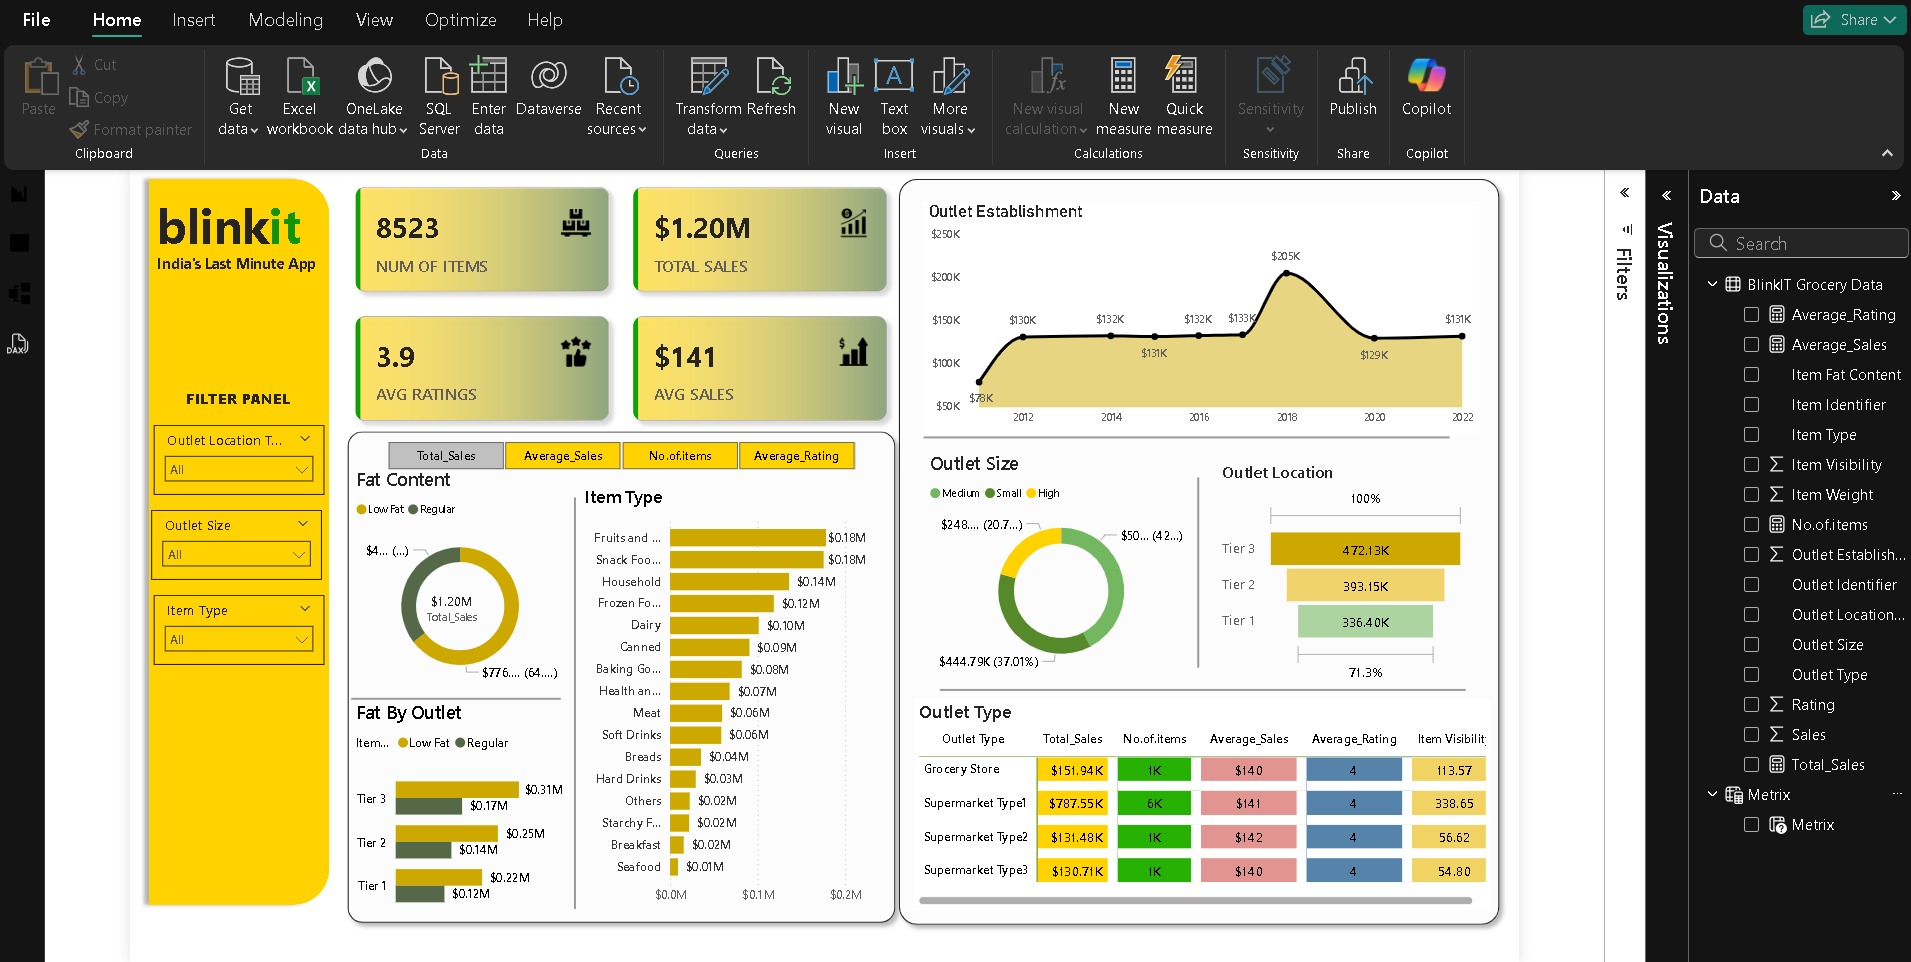

The page's visual inventory and layout, read from the dashboard file:
{"tool":"powerbi","page":{"name":"Page 1","canvas":[1400,800],"ordinal":0},"visuals":[{"type":"shape","box":[10,0,200,750],"z":0},{"type":"textbox","box":[22.4,17.1,175.3,80.6],"z":1000},{"type":"textbox","box":[22.4,79.4,181.8,35.9],"z":2000},{"type":"cardVisual","fields":{"Data":["BlinkIT Grocery Data.No.of.items","BlinkIT Grocery Data.Total_Sales","BlinkIT Grocery Data.Average_Rating","BlinkIT Grocery Data.Average_Sales"]},"box":[210,0,570,270],"z":3000},{"type":"shape","box":[210,255,570,513.3],"z":4000},{"type":"slicer","fields":{"Values":["Metrix.Metrix"]},"box":[235,266.7,520,41.7],"z":5000},{"type":"donutChart","title":"Fat Content","fields":{"Y":["BlinkIT Grocery Data.Total_Sales"],"Category":["BlinkIT Grocery Data.Item Fat Content"]},"box":[223.3,298.3,220,230],"z":6000},{"type":"cardVisual","fields":{"Data":["BlinkIT Grocery Data.Total_Sales"]},"box":[278.3,408.3,93.3,65],"z":7000},{"type":"clusteredBarChart","box":[790,18,570,270],"z":8000},{"type":"clusteredBarChart","title":"Fat By Outlet","fields":{"Y":["BlinkIT Grocery Data.Total_Sales"],"Category":["BlinkIT Grocery Data.Outlet Location Type"],"Series":["BlinkIT Grocery Data.Item Fat Content"]},"box":[223.3,533.3,220,230],"z":9000},{"type":"shape","box":[222.6,527.8,211.1,10.2],"z":10000},{"type":"shape","box":[443.3,330,10,415],"z":11000},{"type":"barChart","title":"Item Type","fields":{"Y":["BlinkIT Grocery Data.Total_Sales"],"Category":["BlinkIT Grocery Data.Item Type"]},"box":[453.3,316.7,311.7,433.3],"z":12000},{"type":"shape","box":[766.7,0,623.3,770],"z":13000},{"type":"lineChart","title":"Outlet Establishment","fields":{"Y":["BlinkIT Grocery Data.Total_Sales"],"Category":["BlinkIT Grocery Data.Outlet Establishment Year"]},"box":[800,31.7,560,235],"z":14000},{"type":"shape","box":[800,260,530,20],"z":15000},{"type":"donutChart","title":"Outlet Size","fields":{"Y":["BlinkIT Grocery Data.Total_Sales"],"Category":["BlinkIT Grocery Data.Outlet Size"]},"box":[801.7,281.7,275,231.7],"z":16000},{"type":"shape","box":[1566.7,255,10,415],"z":17000},{"type":"shape","box":[1066.3,310.3,21.7,191.7],"z":18000},{"type":"funnel","title":"Outlet Location","fields":{"Category":["BlinkIT Grocery Data.Outlet Location Type"],"Y":["Sum(BlinkIT Grocery Data.Sales)"]},"box":[1096.3,292,255,230],"z":19000},{"type":"shape","box":[816.3,513.7,530,20],"z":20000},{"type":"pivotTable","title":"Outlet Type","fields":{"Values":["BlinkIT Grocery Data.Total_Sales","BlinkIT Grocery Data.No.of.items","BlinkIT Grocery Data.Average_Sales","BlinkIT Grocery Data.Average_Rating","Sum(BlinkIT Grocery Data.Item Visibility)"],"Rows":["BlinkIT Grocery Data.Outlet Type"]},"box":[790,533.3,581.7,213.3],"z":21000},{"type":"slicer","fields":{"Values":["BlinkIT Grocery Data.Outlet Location Type"]},"box":[23.3,256.7,171.7,70],"z":22000},{"type":"slicer","fields":{"Values":["BlinkIT Grocery Data.Outlet Size"]},"box":[21.7,343.3,171.7,70],"z":23000},{"type":"slicer","fields":{"Values":["BlinkIT Grocery Data.Item Type"]},"box":[23.3,428.3,171.7,70],"z":24000},{"type":"textbox","box":[20,198.3,178.3,56.7],"z":25000}]}

Visuals, with their boxes on the page's 1400x800 design canvas (x1, y1, x2, y2). These are canvas units, not pixel positions in the 1911x962 screenshot, which may show the page scaled, cropped or inside an application window:
shape: 10 0 210 750
textbox: 22 17 198 98
textbox: 22 79 204 115
cardVisual - BlinkIT Grocery Data.No.of.items x BlinkIT Grocery Data.Total_Sales: 210 0 780 270
shape: 210 255 780 768
slicer - Metrix.Metrix: 235 267 755 308
"Fat Content" donutChart: 223 298 443 528
cardVisual - BlinkIT Grocery Data.Total_Sales: 278 408 372 473
clusteredBarChart: 790 18 1360 288
"Fat By Outlet" clusteredBarChart: 223 533 443 763
shape: 223 528 434 538
shape: 443 330 453 745
"Item Type" barChart: 453 317 765 750
shape: 767 0 1390 770
"Outlet Establishment" lineChart: 800 32 1360 267
shape: 800 260 1330 280
"Outlet Size" donutChart: 802 282 1077 513
shape: 1567 255 1577 670
shape: 1066 310 1088 502
"Outlet Location" funnel: 1096 292 1351 522
shape: 816 514 1346 534
"Outlet Type" pivotTable: 790 533 1372 747
slicer - BlinkIT Grocery Data.Outlet Location Type: 23 257 195 327
slicer - BlinkIT Grocery Data.Outlet Size: 22 343 193 413
slicer - BlinkIT Grocery Data.Item Type: 23 428 195 498
textbox: 20 198 198 255
